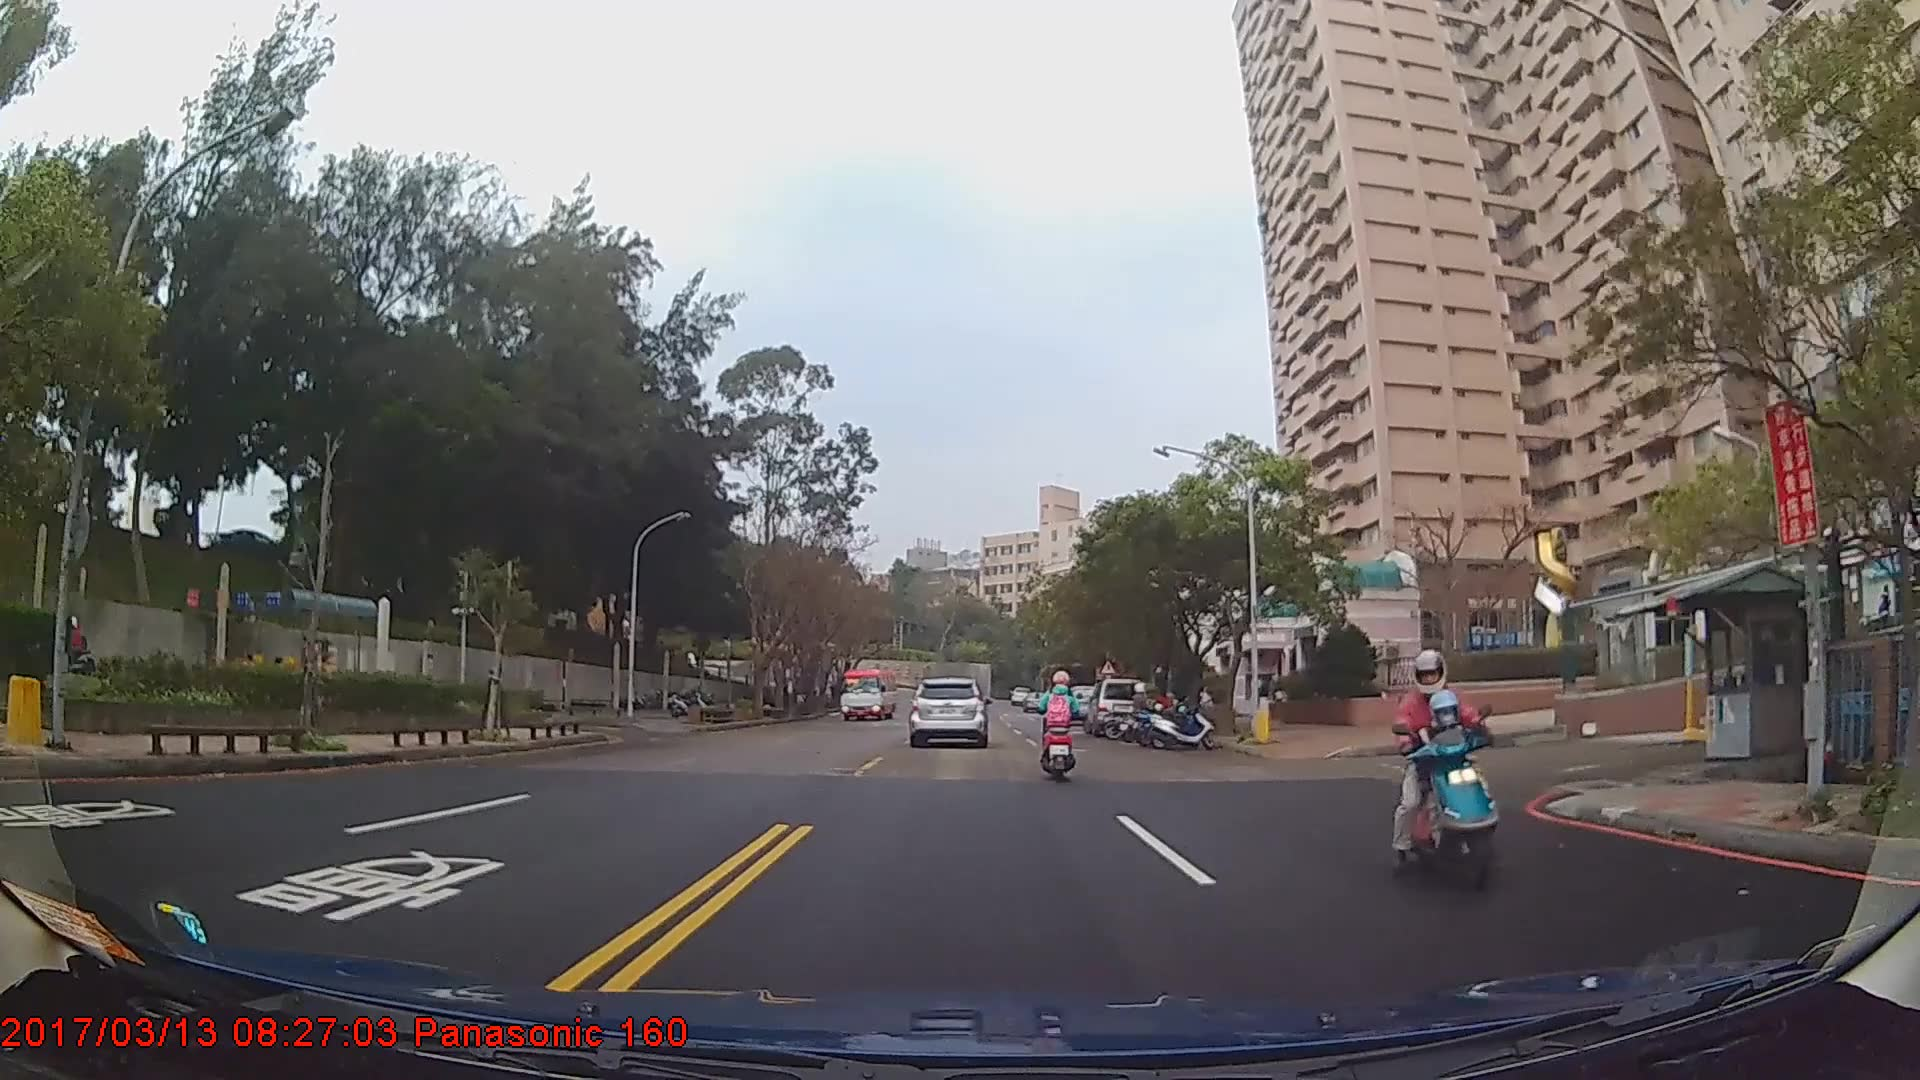rider: (1388, 650, 1496, 879), (1036, 663, 1081, 788), (1119, 680, 1158, 744)
vehicle: (907, 673, 986, 748), (1082, 675, 1145, 734), (837, 668, 898, 722)
